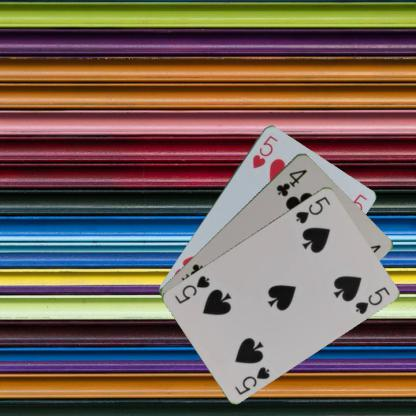4c: (274, 166, 308, 198)
5h: (250, 132, 279, 170)
5s: (293, 193, 332, 225), (232, 364, 271, 396)
